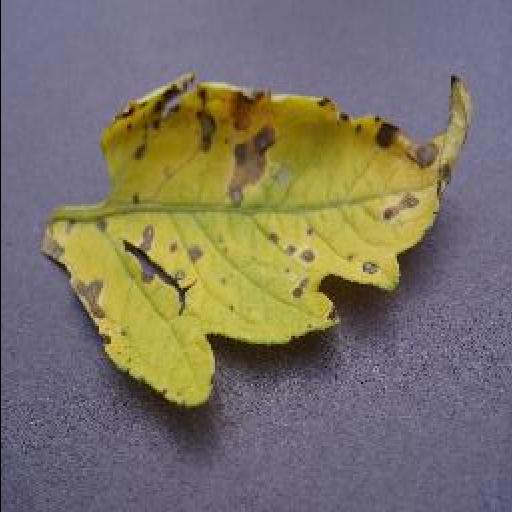disease_tomato: (38, 74, 474, 410)
